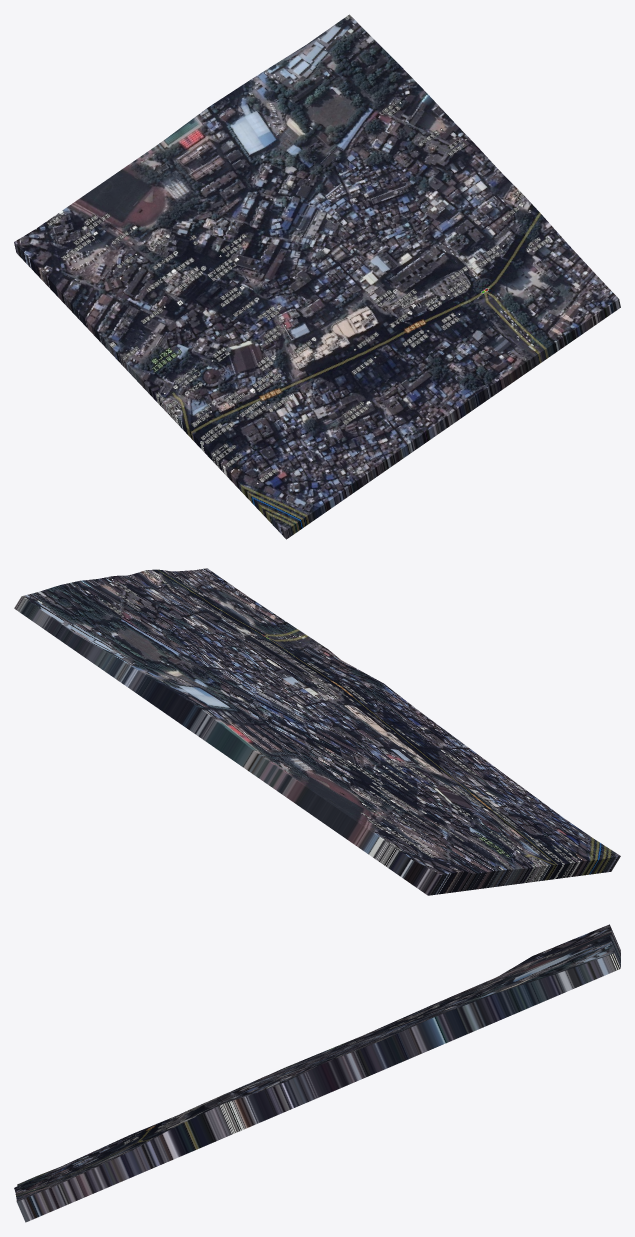
3 renders of one model, top to bottom at view 1: azimuth 30°, elevation 25°; view 2: azimuth 150°, elevation 25°; view 3: azimuth 270°, elevation 25°, orthographic. The views are drawn at different scales.
Parts seen in each view (by area): view 1: 0_13_11; view 2: 0_13_11; view 3: 0_13_11.
Part boxes in pixels (x1,y1,x2,y2): 0_13_11: (14, 14, 620, 539); 0_13_11: (14, 568, 620, 895); 0_13_11: (14, 924, 620, 1222).
Bounding box in the file's own units: 602 × 441 × 553.
1 material, 1 textured.
